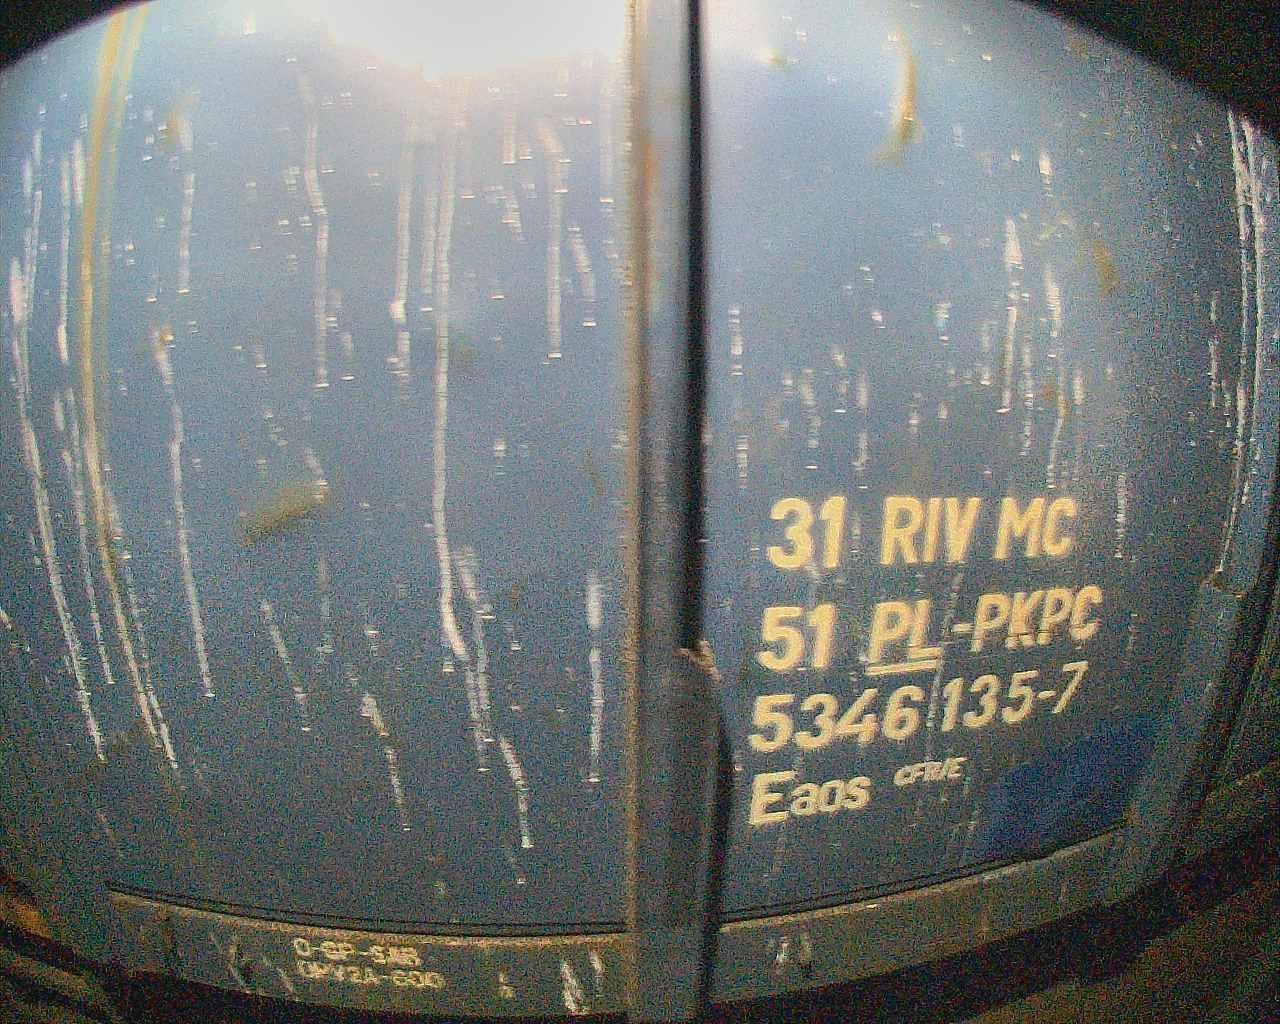UIC: (742, 494, 1104, 829)
